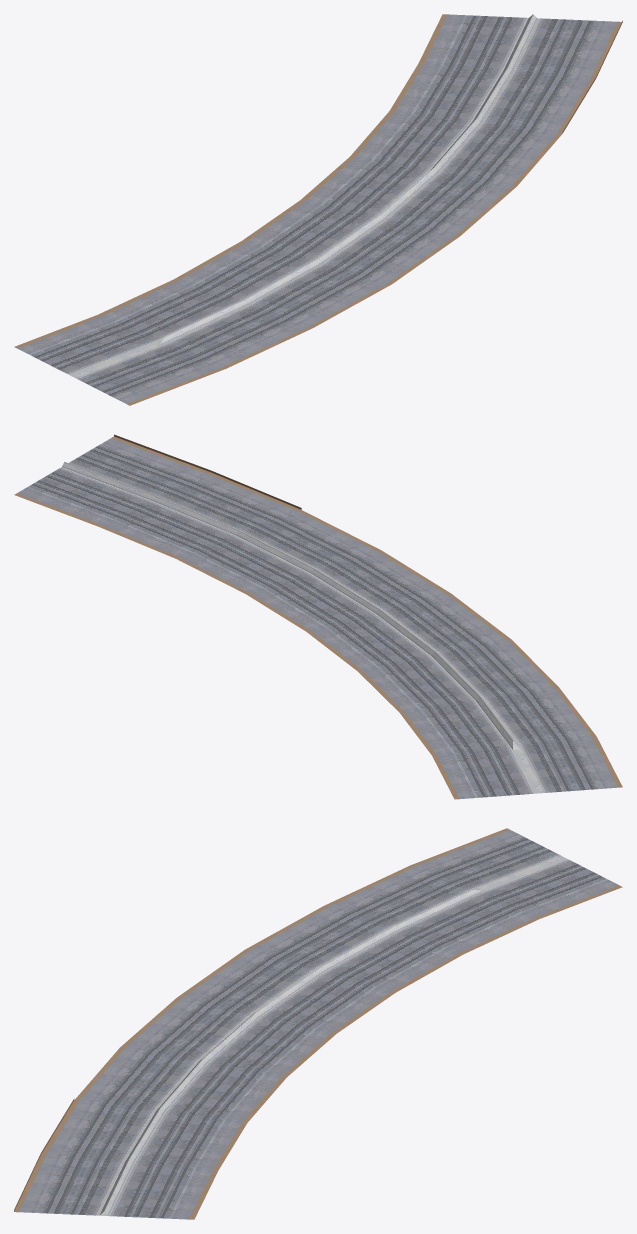
File: lodaseroad093.obj
3 renders of one model, top to bottom at view 1: azimuth 90°, elevation 25°; view 2: azimuth 150°, elevation 25°; view 3: azimuth 270°, elevation 25°, orthographic. The views are drawn at different scales.
Visible parts, largest first — view 1: lodasEroad093; view 2: lodasEroad093; view 3: lodasEroad093.
Part boxes in pixels (x1,y1,x2,y2): lodasEroad093: (14,14,622,405); lodasEroad093: (14,434,622,799); lodasEroad093: (14,828,622,1219).
Bounding box in the file's own units: 205 × 0.9823 × 135.
1 material, 1 textured.
